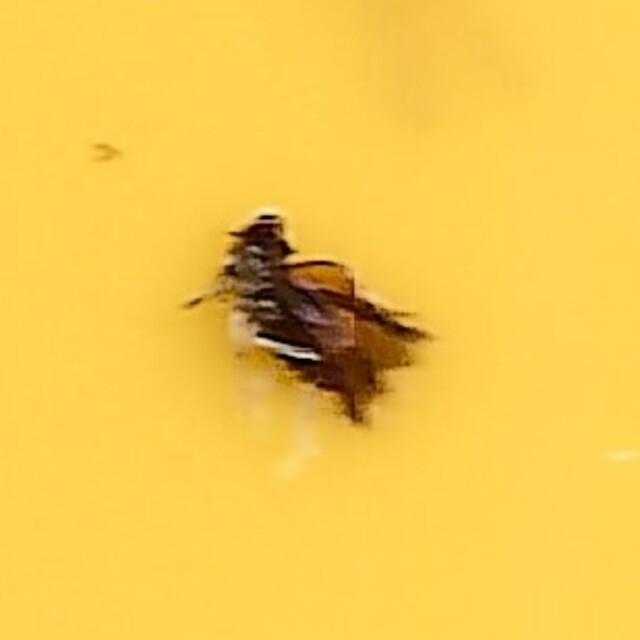Hemiptera: (207, 207, 433, 433)
